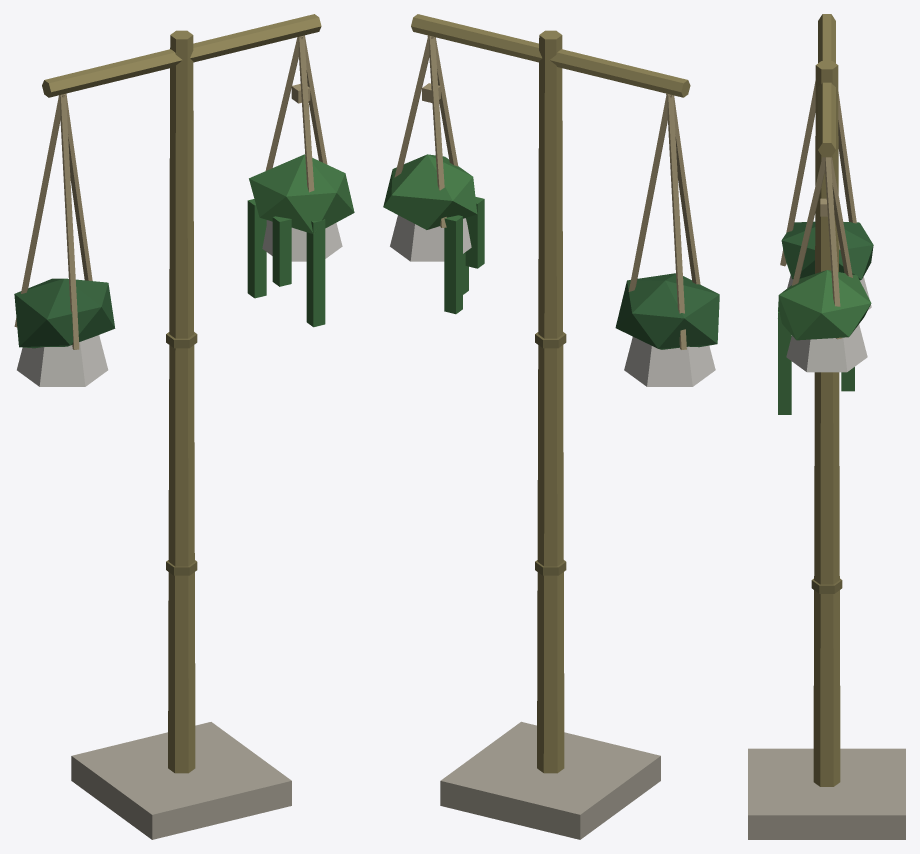
The model's file is plant-hanger-15.glb.
3 views of the same model, side by side, from view 1: azimuth 30°, elevation 25°; view 2: azimuth 150°, elevation 25°; view 3: azimuth 270°, elevation 25° (orthographic). The views are drawn at different scales.
Parts seen in each view (by area): view 1: plant_hanger_15; view 2: plant_hanger_15; view 3: plant_hanger_15.
Part boxes in pixels (<box>): plant_hanger_15: <box>14,14,354,839</box>; plant_hanger_15: <box>383,14,719,839</box>; plant_hanger_15: <box>748,14,905,839</box>.
Bounding box in the file's own units: 0.8154 × 1.81 × 0.3499.
